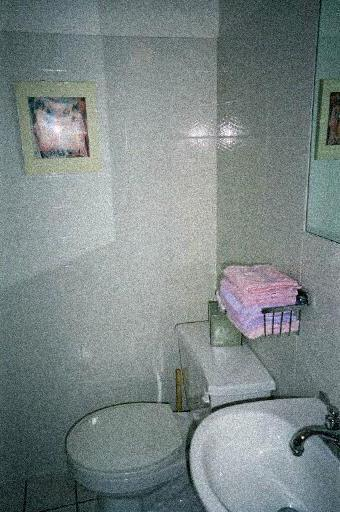Lavamanos: (189, 395, 337, 511)
Sanitario: (66, 319, 244, 503)
